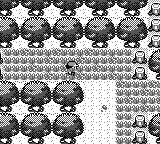captura: (4, 48, 159, 143)
main: (66, 61, 79, 73)
no-caminable: (1, 0, 148, 48), (0, 81, 83, 143), (148, 1, 159, 49), (132, 48, 147, 79), (132, 113, 147, 143), (147, 112, 159, 143), (148, 50, 159, 78)
